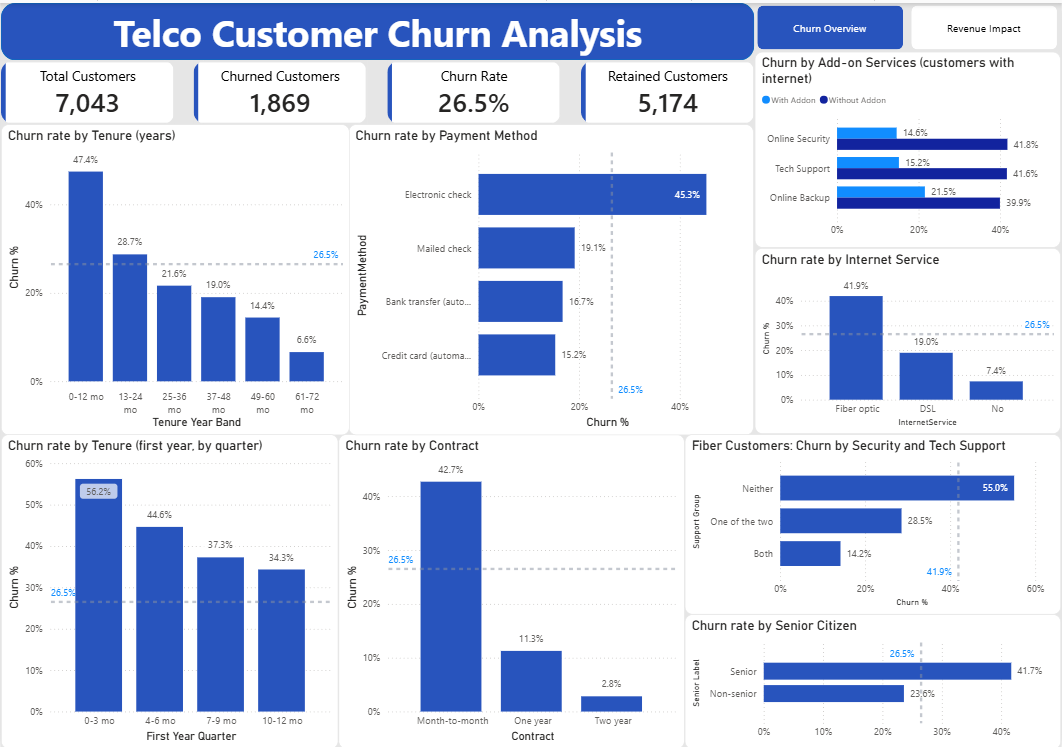

This screenshot's page, from the dashboard's own definition file:
{"tool":"powerbi","page":{"name":"Churn Overview","canvas":[1350,950],"ordinal":0},"visuals":[{"type":"shape","box":[0,0,959.2,72.7],"z":0},{"type":"cardVisual","fields":{"Data":["WA_Fn-UseC_-Telco-Customer-Churn.Total Customers Label"]},"box":[0,73.2,221.3,81.2],"z":1000},{"type":"cardVisual","fields":{"Data":["WA_Fn-UseC_-Telco-Customer-Churn.Churned Customers Label"]},"box":[245.1,73.2,221.3,81.2],"z":2000},{"type":"cardVisual","fields":{"Data":["WA_Fn-UseC_-Telco-Customer-Churn.Churn Rate Label"]},"box":[491.9,73.2,221.3,81.2],"z":3000},{"type":"cardVisual","fields":{"Data":["WA_Fn-UseC_-Telco-Customer-Churn.Retained Customers Label"]},"box":[738.6,73.2,221.3,81.2],"z":4000},{"type":"lineClusteredColumnComboChart","title":"Churn rate by Contract","fields":{"Y":["WA_Fn-UseC_-Telco-Customer-Churn.Churn %"],"Category":["WA_Fn-UseC_-Telco-Customer-Churn.Contract"]},"box":[429.8,549.2,440.9,401.1],"z":5000},{"type":"clusteredColumnChart","title":"Churn rate by Internet Service","fields":{"Category":["WA_Fn-UseC_-Telco-Customer-Churn.InternetService"],"Y":["WA_Fn-UseC_-Telco-Customer-Churn.Churn %"]},"box":[959.9,312,390,237.2],"z":6000},{"type":"clusteredBarChart","title":"Churn rate by Payment Method","fields":{"Y":["WA_Fn-UseC_-Telco-Customer-Churn.Churn %"],"Category":["WA_Fn-UseC_-Telco-Customer-Churn.PaymentMethod"]},"box":[442.5,154.4,515.8,396.4],"z":7000},{"type":"lineClusteredColumnComboChart","title":"Churn rate by Tenure (years)","fields":{"Y":["WA_Fn-UseC_-Telco-Customer-Churn.Churn %"],"Category":["WA_Fn-UseC_-Telco-Customer-Churn.Tenure Year Band"]},"box":[0,154.4,444.1,396.4],"z":8000},{"type":"lineClusteredColumnComboChart","title":"Churn rate by Tenure (first year, by quarter)","fields":{"Y":["WA_Fn-UseC_-Telco-Customer-Churn.Churn %"],"Category":["WA_Fn-UseC_-Telco-Customer-Churn.First Year Quarter"]},"box":[0,549.2,429.8,401.1],"z":9000},{"type":"clusteredBarChart","title":"Fiber Customers: Churn by Security and Tech Support","fields":{"Y":["WA_Fn-UseC_-Telco-Customer-Churn.Churn %"],"Category":["WA_Fn-UseC_-Telco-Customer-Churn.Support Group"]},"box":[870.7,549.2,479.1,229.2],"z":10000},{"type":"pageNavigator","box":[959.9,0,390,62.1],"z":11000},{"type":"clusteredBarChart","title":"Churn by Add-on Services (customers with internet)","fields":{"Y":["WA_Fn-UseC_-Telco-Customer-Churn.Churn % With Addon","WA_Fn-UseC_-Telco-Customer-Churn.Churn % Without Addon"],"Category":["AddonList.Addon"]},"box":[959.9,62.1,390,249.9],"z":12000},{"type":"clusteredBarChart","title":"Churn rate by Senior Citizen","fields":{"Y":["WA_Fn-UseC_-Telco-Customer-Churn.Churn %"],"Category":["WA_Fn-UseC_-Telco-Customer-Churn.Senior Label"]},"box":[870.7,778.4,479.1,171.9],"z":13000}]}

Visuals, with their boxes in screenshot pixels (x1, y1, x2, y2), scaled from the page's 1350x950 canvas onto the 1062x747 screenshot:
shape: box=[0, 0, 755, 57]
cardVisual - WA_Fn-UseC_-Telco-Customer-Churn.Total Customers Label: box=[0, 58, 174, 121]
cardVisual - WA_Fn-UseC_-Telco-Customer-Churn.Churned Customers Label: box=[193, 58, 367, 121]
cardVisual - WA_Fn-UseC_-Telco-Customer-Churn.Churn Rate Label: box=[387, 58, 561, 121]
cardVisual - WA_Fn-UseC_-Telco-Customer-Churn.Retained Customers Label: box=[581, 58, 755, 121]
"Churn rate by Contract" lineClusteredColumnComboChart: box=[338, 432, 685, 746]
"Churn rate by Internet Service" clusteredColumnChart: box=[755, 245, 1061, 432]
"Churn rate by Payment Method" clusteredBarChart: box=[348, 121, 754, 433]
"Churn rate by Tenure (years)" lineClusteredColumnComboChart: box=[0, 121, 349, 433]
"Churn rate by Tenure (first year, by quarter)" lineClusteredColumnComboChart: box=[0, 432, 338, 746]
"Fiber Customers: Churn by Security and Tech Support" clusteredBarChart: box=[685, 432, 1061, 612]
pageNavigator: box=[755, 0, 1061, 49]
"Churn by Add-on Services (customers with internet)" clusteredBarChart: box=[755, 49, 1061, 245]
"Churn rate by Senior Citizen" clusteredBarChart: box=[685, 612, 1061, 746]
